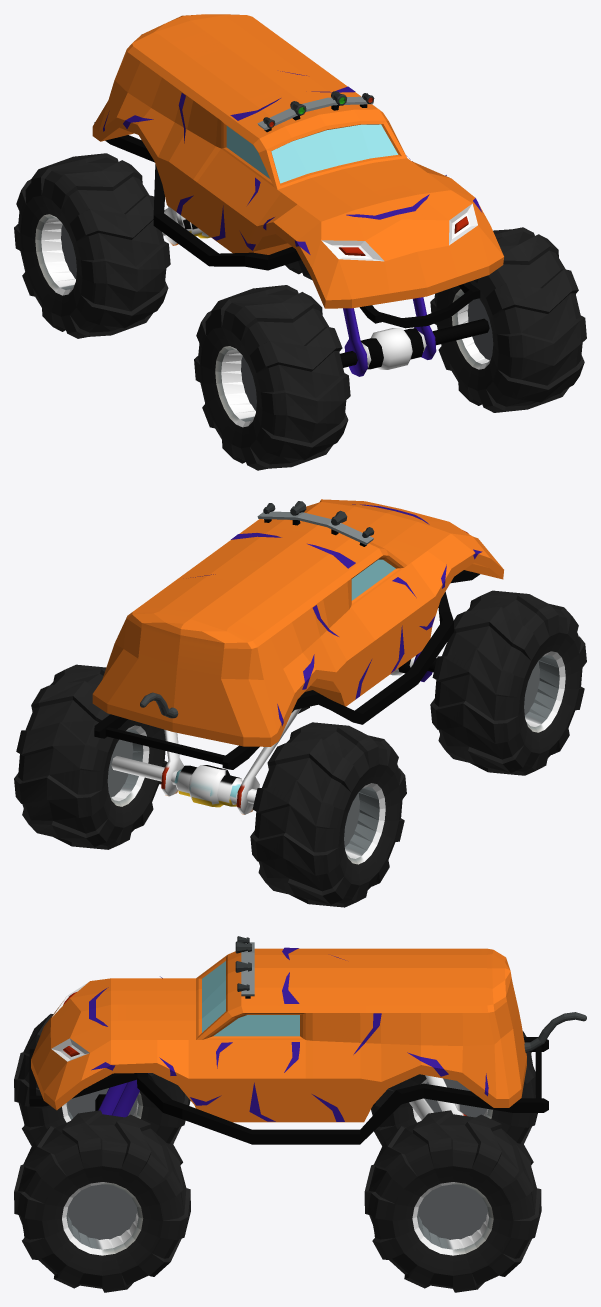
File: truck 2.fbx
The picture shows the model from 3 angles, top to bottom: view 1: azimuth 30°, elevation 25°; view 2: azimuth 150°, elevation 25°; view 3: azimuth 270°, elevation 25°; orthographic projection. The views are drawn at different scales.
Visible parts, largest first — view 1: Monster_Truck_Body_8_Leopard_0, Wheel_FR_8_Leopard_0, Wheel_RR_8_Leopard_0, Wheel_FL_8_Leopard_0; view 2: Monster_Truck_Body_8_Leopard_0, Wheel_RR_8_Leopard_0, Wheel_FR_8_Leopard_0, Wheel_RL_8_Leopard_0; view 3: Monster_Truck_Body_8_Leopard_0, Wheel_RL_8_Leopard_0, Wheel_FL_8_Leopard_0, Wheel_FR_8_Leopard_0, Wheel_RR_8_Leopard_0, Monster_Truck_Livery_8_Leopard_0.
Part boxes in pixels (x1,y1,x2,y2): Monster_Truck_Body_8_Leopard_0: (92, 14, 503, 376); Wheel_FR_8_Leopard_0: (194, 285, 350, 470); Wheel_RR_8_Leopard_0: (14, 153, 170, 338); Wheel_FL_8_Leopard_0: (430, 227, 586, 412); Monster_Truck_Body_8_Leopard_0: (92, 499, 503, 814); Wheel_RR_8_Leopard_0: (250, 722, 406, 907); Wheel_FR_8_Leopard_0: (430, 590, 586, 775); Wheel_RL_8_Leopard_0: (14, 664, 167, 849); Monster_Truck_Body_8_Leopard_0: (29, 936, 548, 1144); Wheel_RL_8_Leopard_0: (364, 1110, 541, 1292); Wheel_FL_8_Leopard_0: (14, 1110, 190, 1292); Wheel_FR_8_Leopard_0: (14, 1014, 190, 1145); Wheel_RR_8_Leopard_0: (371, 1031, 537, 1145); Monster_Truck_Livery_8_Leopard_0: (524, 1012, 586, 1052).
Size of the model in its own units: 33.9 by 28.58 by 54.29.
1 material, 1 textured.
